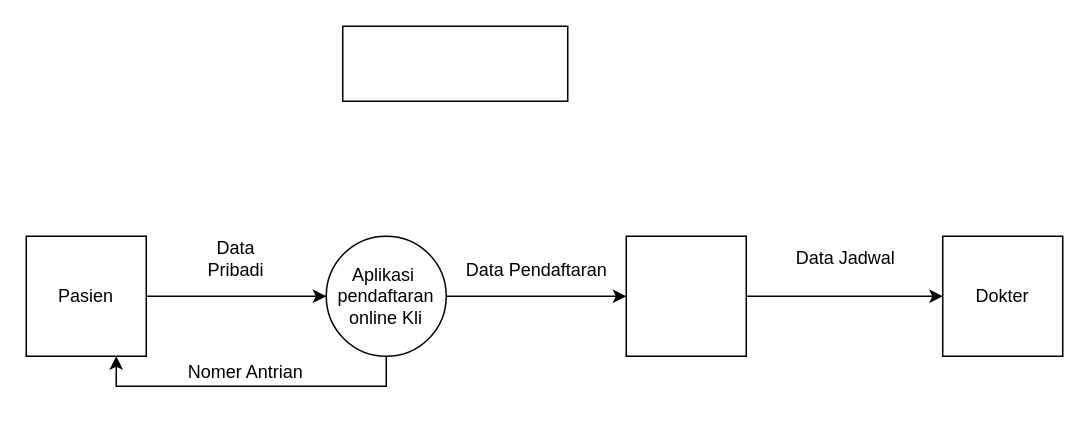
Image size: 1089x425. Some labels were removed from this diagram. Here are the shapes that lost their labels. From the top down, the centre of each, then its label:
At [454,63]: "Data Flow Diagram".
At [685,295]: "Petugas / Admin".
